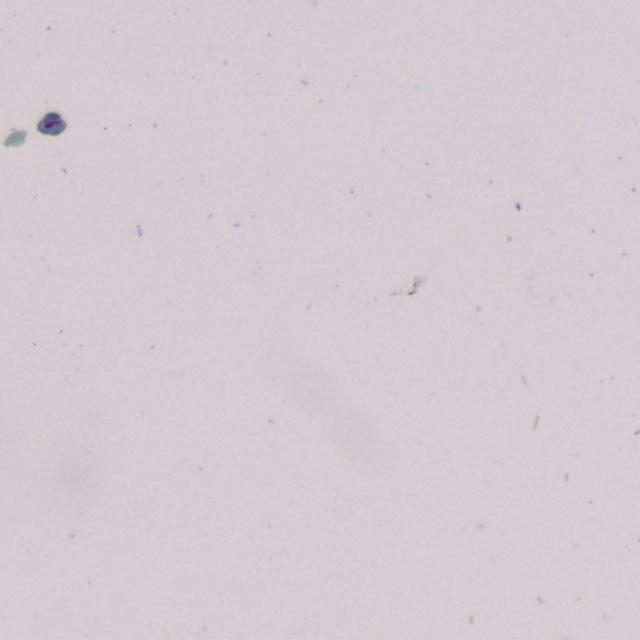non_viable: (38, 112, 66, 134)
